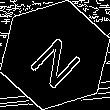N_NE: (23, 23, 87, 87)
